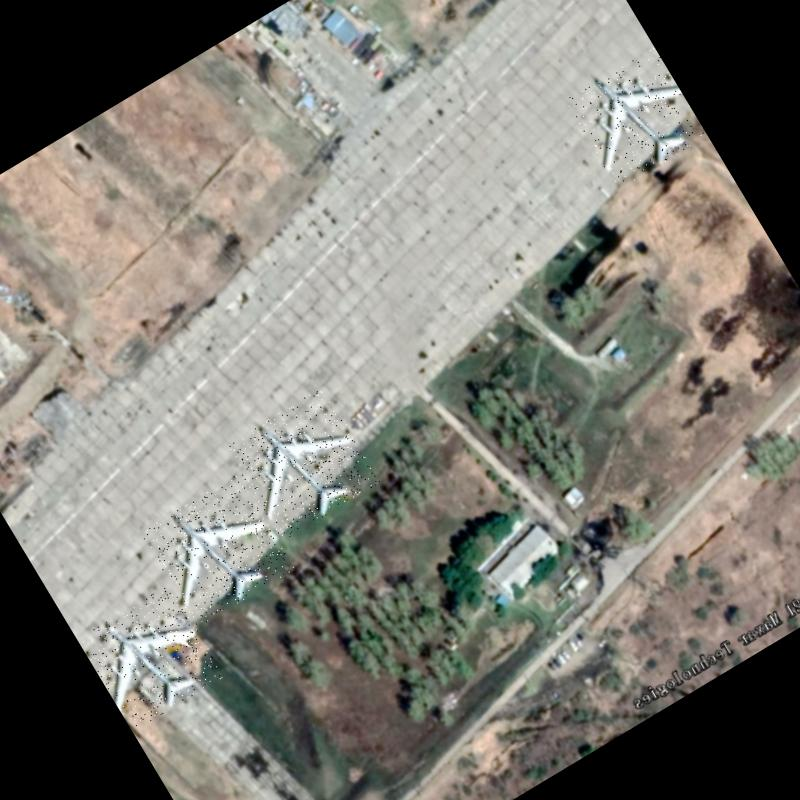A17: (224, 385, 381, 541), (140, 473, 294, 627), (78, 583, 224, 731), (564, 46, 708, 190)
